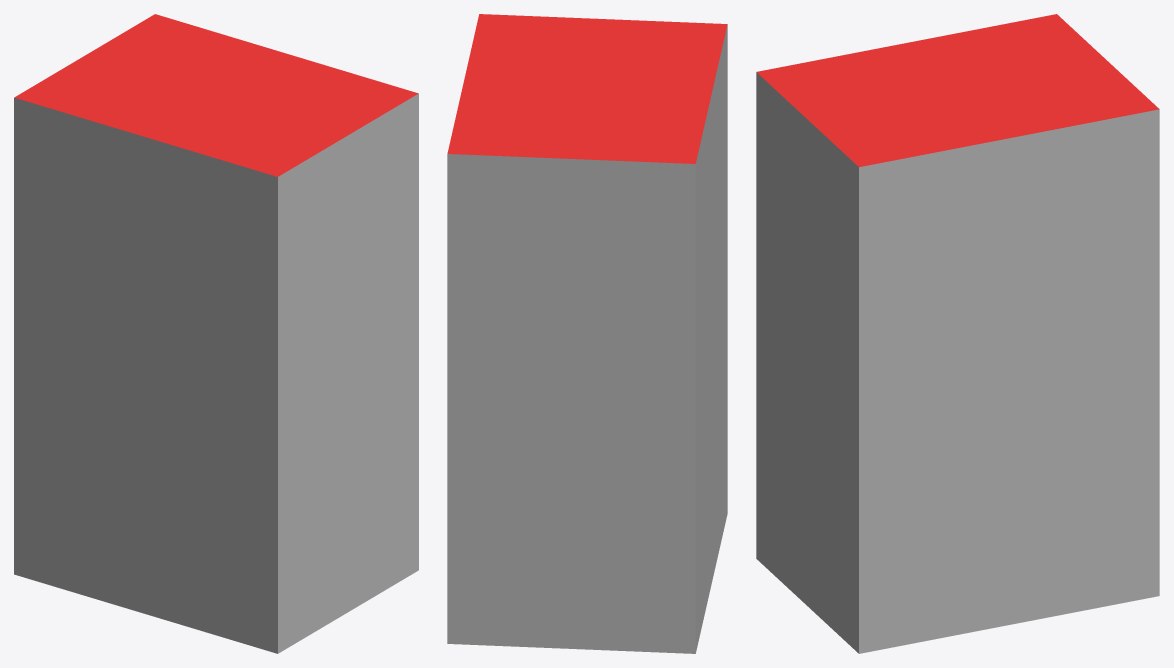
Rendered from ID_7e0c9542-aa08-45f1-bbbf-505ee992e5ef.dae.
3 renders of one model, left to right at view 1: azimuth 30°, elevation 25°; view 2: azimuth 150°, elevation 25°; view 3: azimuth 270°, elevation 25°, orthographic. The views are drawn at different scales.
Size of the model in its own units: 8.78 by 9.77 by 13.
